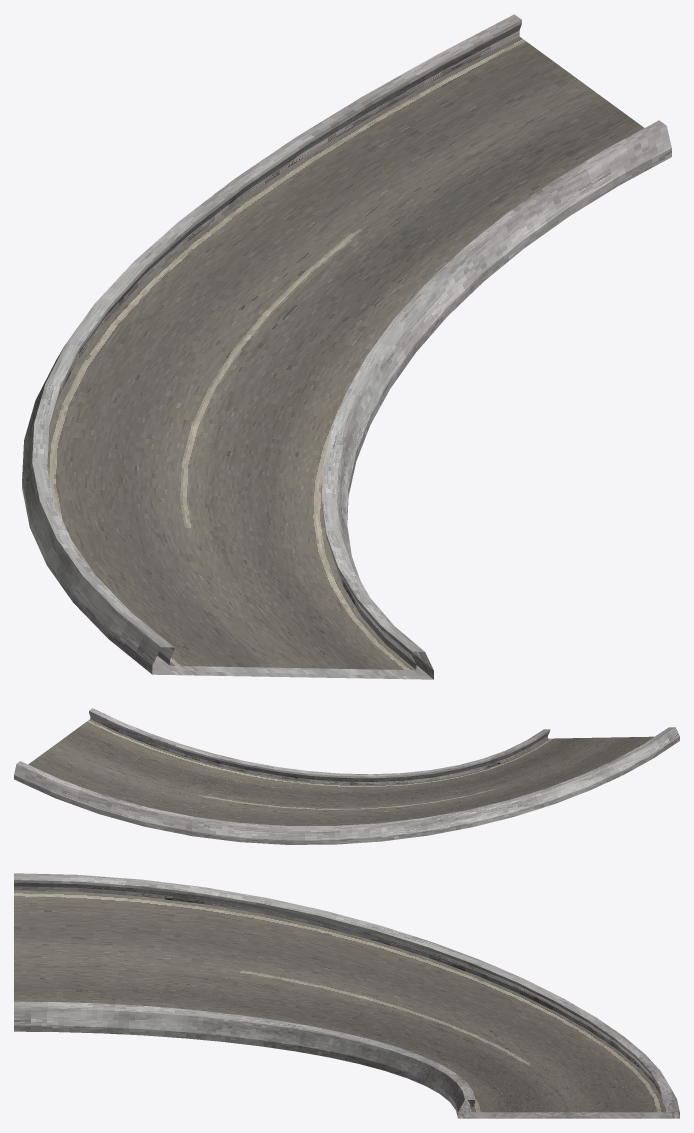
File: road-Turn-HalfBankedRight-BiSlopeUp-Up2-Right-Size3.glb
3 views of the same model, one above another, from view 1: azimuth 30°, elevation 25°; view 2: azimuth 150°, elevation 25°; view 3: azimuth 270°, elevation 25° (orthographic). The views are drawn at different scales.
Parts seen in each view (by area): view 1: road-Turn-HalfBankedRight-BiSlopeUp-Up2-Right-Size3; view 2: road-Turn-HalfBankedRight-BiSlopeUp-Up2-Right-Size3; view 3: road-Turn-HalfBankedRight-BiSlopeUp-Up2-Right-Size3.
Part boxes in pixels (box(x1,y1,x2,y2)): road-Turn-HalfBankedRight-BiSlopeUp-Up2-Right-Size3: box(22, 14, 671, 679); road-Turn-HalfBankedRight-BiSlopeUp-Up2-Right-Size3: box(14, 708, 679, 844); road-Turn-HalfBankedRight-BiSlopeUp-Up2-Right-Size3: box(14, 873, 679, 1118).
Size of the model in its own units: 3 by 0.5937 by 3.
Materials: 2 (2 with a texture image).
